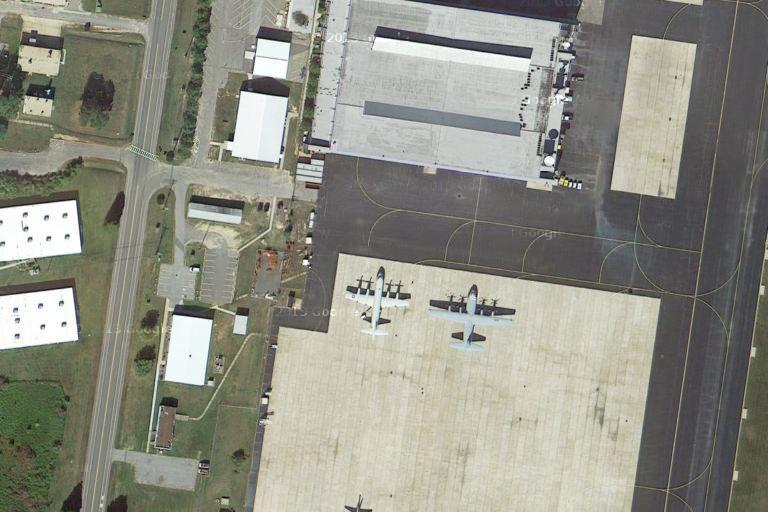C-130: (426, 281, 515, 354)
P-3C: (339, 263, 417, 338)
